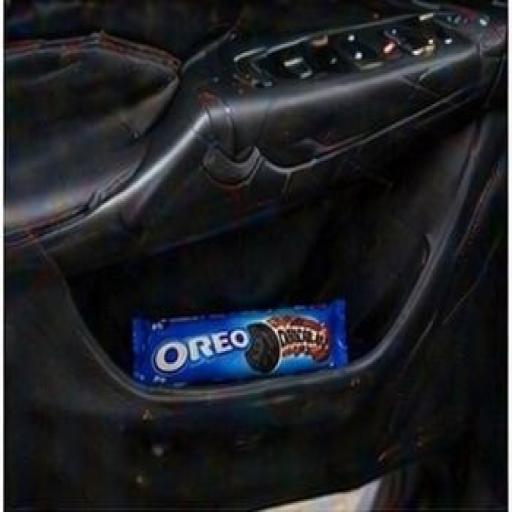oreo: (106, 243, 418, 438)
